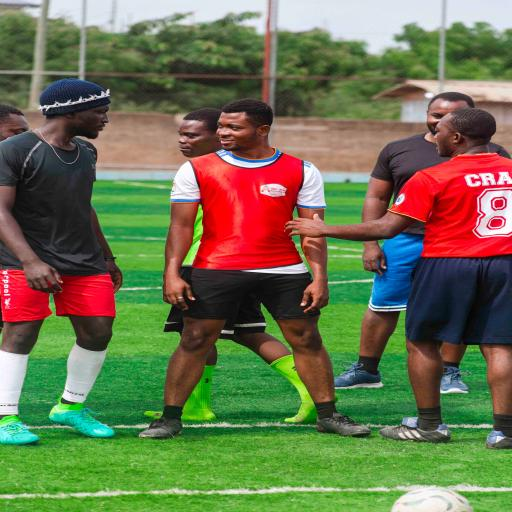shoe: (49, 403, 114, 437), (379, 417, 451, 442), (335, 361, 383, 389), (317, 413, 371, 437), (0, 416, 39, 445), (139, 418, 182, 439), (441, 367, 471, 393), (285, 402, 317, 423), (486, 431, 511, 449), (182, 409, 215, 421), (144, 411, 162, 419)
